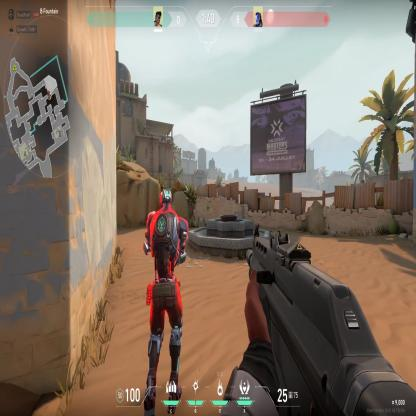enemy: (140, 185, 190, 377)
